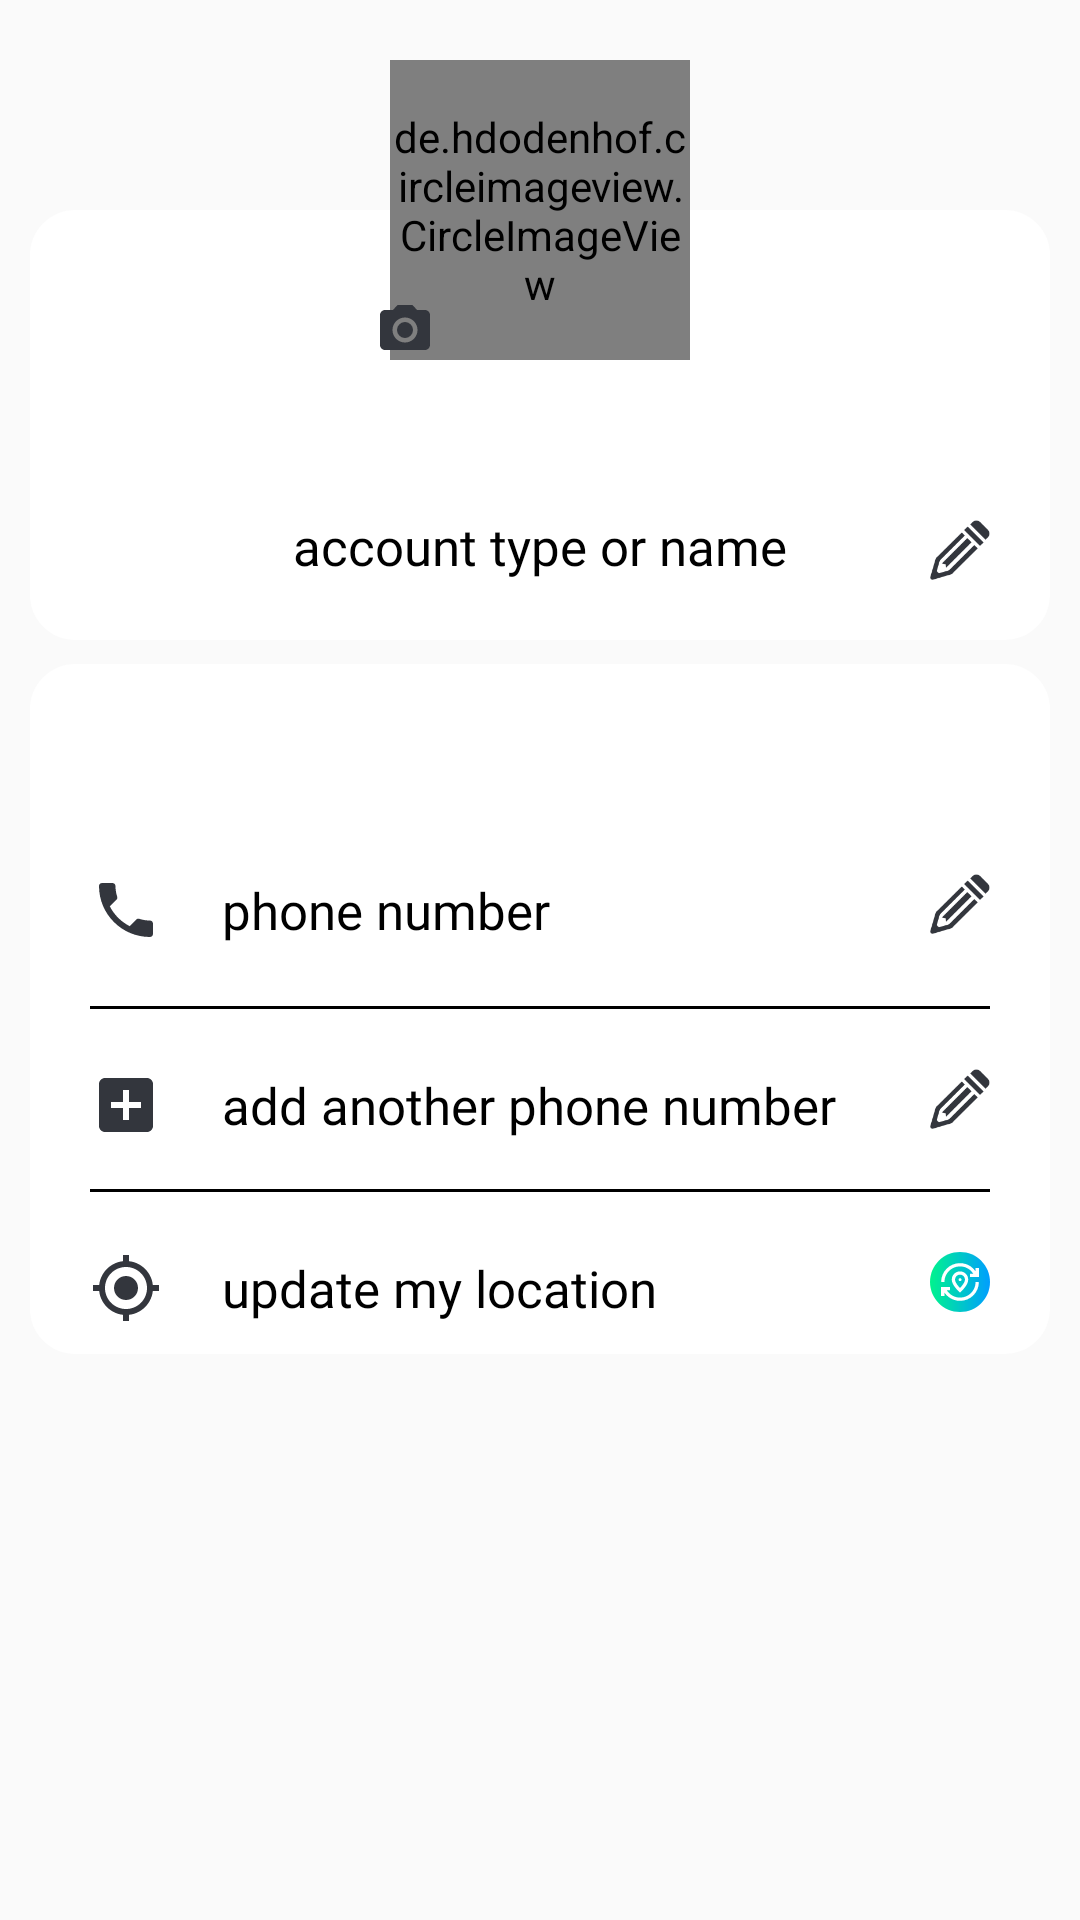

Where to tap for icons on this 1080*1920 app screen, as (x=x, y=y):
update location: (x=960, y=1282)
